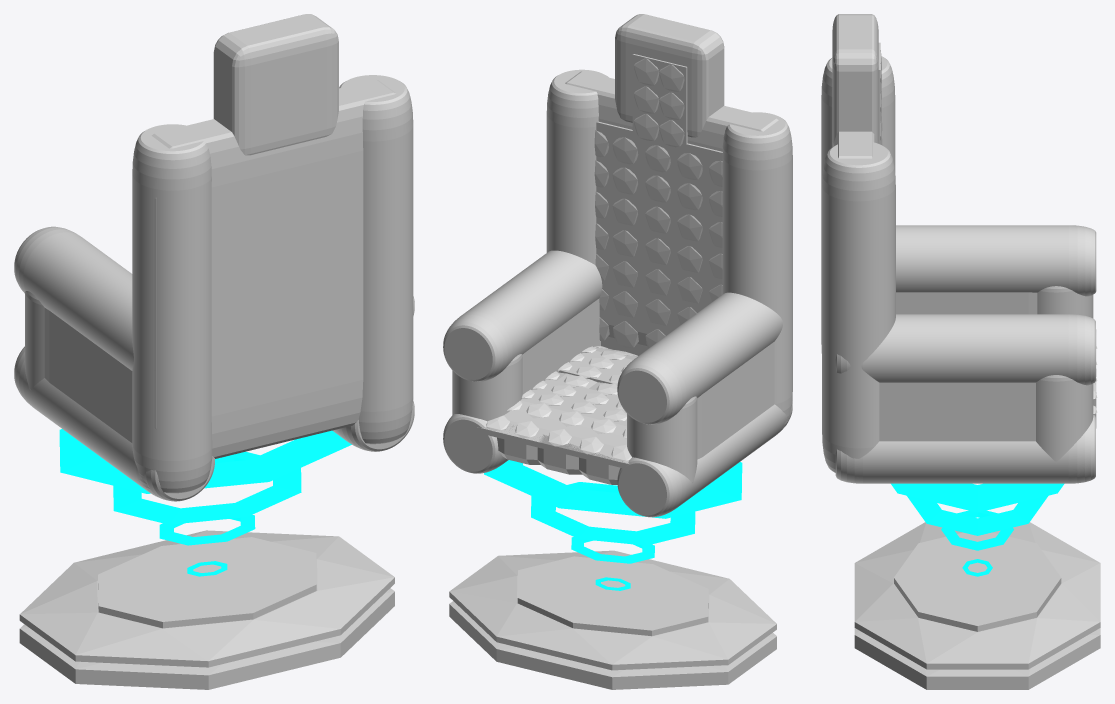
File: Command Throne 3.0.glb
3 renders of one model, left to right at view 1: azimuth 30°, elevation 25°; view 2: azimuth 150°, elevation 25°; view 3: azimuth 270°, elevation 25°, orthographic. The views are drawn at different scales.
Visible parts, largest first — view 1: Cylinder.010, Cylinder.001, Cube.008, Cube.007, Cylinder.009, Cube.006, Cylinder.002, Cube.011, Cylinder.003, Cylinder, Cube.014, Torus.003 (+5 smaller); view 2: Cylinder.001, Cylinder.010, Cylinder.002, Cylinder.003, Cylinder.004, Cube.010, Cylinder.009, Cube.011, Cylinder, Cylinder.007, Torus.003, Cube.014 (+21 smaller); view 3: Cylinder.009, Cylinder.001, Cylinder.004, Cylinder.003, Cylinder.002, Cylinder.008, Cube.015, Cube.011, Cylinder, Cylinder.005, Torus.003, Cube.014 (+5 smaller).
Boxes of the visible parts, bbox=[...] form: Cylinder.010: bbox=[132, 124, 212, 493]; Cylinder.001: bbox=[19, 530, 394, 667]; Cube.008: bbox=[242, 133, 334, 447]; Cube.007: bbox=[151, 119, 267, 458]; Cylinder.009: bbox=[339, 75, 413, 444]; Cube.006: bbox=[302, 79, 396, 437]; Cylinder.002: bbox=[98, 537, 316, 628]; Cube.011: bbox=[213, 14, 338, 155]; Cylinder.003: bbox=[14, 226, 155, 370]; Cylinder: bbox=[19, 588, 394, 689]; Cube.014: bbox=[44, 308, 132, 442]; Torus.003: bbox=[59, 429, 351, 493]; Cylinder.001: bbox=[449, 550, 776, 670]; Cylinder.010: bbox=[722, 112, 792, 428]; Cylinder.002: bbox=[517, 556, 708, 636]; Cylinder.003: bbox=[617, 292, 782, 424]; Cylinder.004: bbox=[443, 250, 602, 381]; Cube.010: bbox=[596, 121, 722, 302]; Cylinder.009: bbox=[546, 69, 608, 264]; Cube.011: bbox=[615, 14, 724, 137]; Cylinder: bbox=[449, 601, 776, 689]; Cylinder.007: bbox=[617, 401, 792, 517]; Torus.003: bbox=[484, 460, 742, 518]; Cube.014: bbox=[697, 341, 774, 459]; Cylinder.009: bbox=[822, 142, 895, 477]; Cylinder.001: bbox=[854, 522, 1100, 669]; Cylinder.004: bbox=[835, 314, 1095, 385]; Cylinder.003: bbox=[896, 225, 1096, 296]; Cylinder.002: bbox=[894, 532, 1061, 631]; Cylinder.008: bbox=[835, 415, 1095, 483]; Cube.015: bbox=[879, 382, 1035, 441]; Cube.011: bbox=[832, 14, 878, 146]; Cylinder: bbox=[854, 628, 1100, 689]; Cylinder.005: bbox=[1036, 375, 1093, 463]; Torus.003: bbox=[891, 483, 1064, 512]; Cube.014: bbox=[896, 292, 1037, 314].
Bounding box in the file's own units: 1.71 × 3.31 × 1.41.
